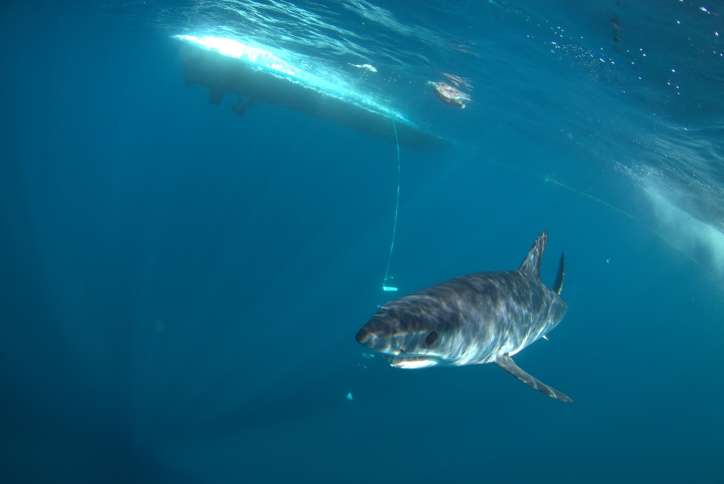Mako: (352, 226, 589, 419)
